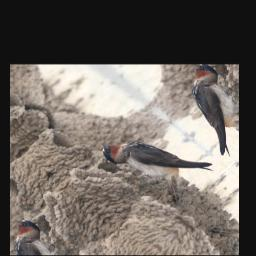Swallow: (94, 107, 220, 212)
